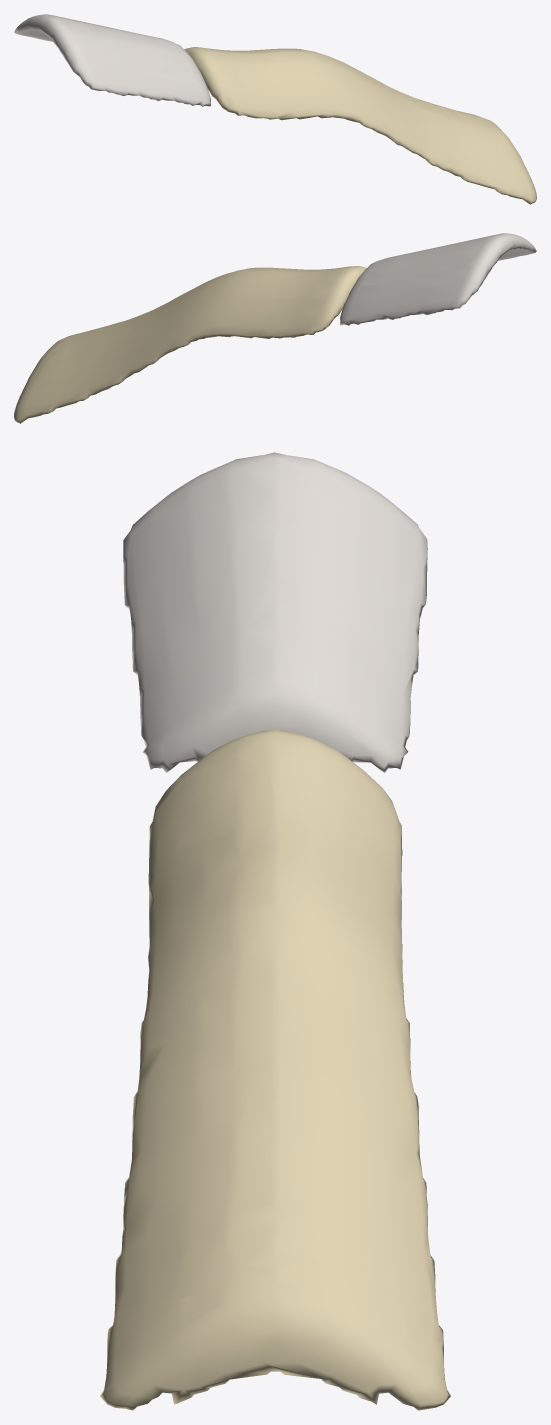
The model's file is nasal_hump.glb.
3 renders of one model, top to bottom at view 1: azimuth 30°, elevation 25°; view 2: azimuth 150°, elevation 25°; view 3: azimuth 270°, elevation 25°, orthographic. The views are drawn at different scales.
Visible parts, largest first — view 1: NasalBone, Cartilage; view 2: NasalBone, Cartilage; view 3: NasalBone, Cartilage.
Part boxes in pixels (bbox=[...]): NasalBone: bbox=[184, 47, 536, 204]; Cartilage: bbox=[14, 14, 210, 106]; NasalBone: bbox=[14, 266, 366, 423]; Cartilage: bbox=[339, 233, 536, 325]; NasalBone: bbox=[100, 729, 450, 1410]; Cartilage: bbox=[123, 452, 427, 772].
Bounding box in the file's own units: 0.0443 × 0.0239 × 0.0146.
